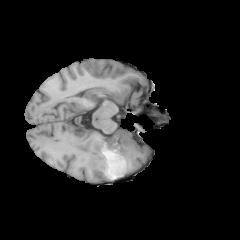glioma: (86, 132, 141, 180)
